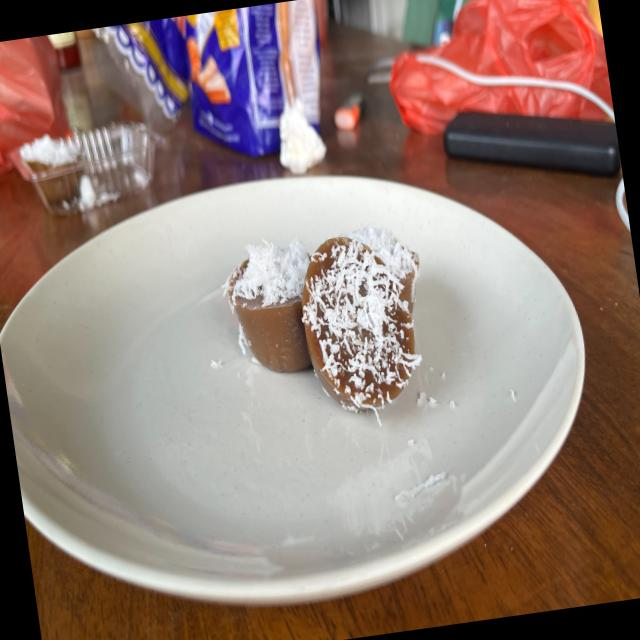Kuih lompang: (302, 236, 420, 411), (225, 238, 312, 373), (350, 224, 419, 312)
